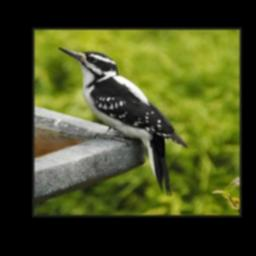Woodpecker: (57, 42, 187, 197)
